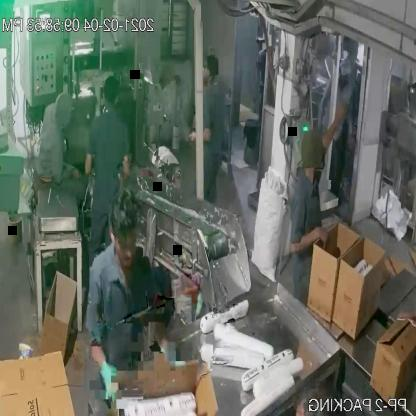glove: (87, 338, 121, 410)
no_glove: (308, 102, 352, 172), (284, 216, 333, 270)
